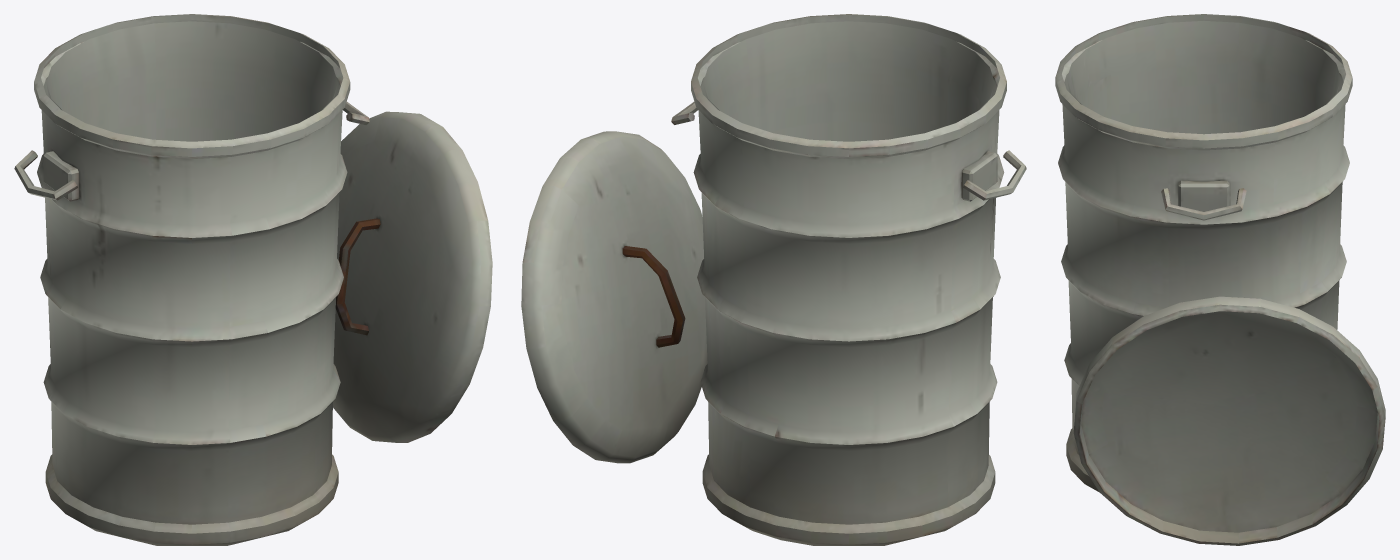
The model's file is trash_can_open-low.glb.
3 renders of one model, left to right at view 1: azimuth 30°, elevation 25°; view 2: azimuth 150°, elevation 25°; view 3: azimuth 270°, elevation 25°, orthographic. The views are drawn at different scales.
Visible parts, largest first — view 1: trash_can_open; view 2: trash_can_open; view 3: trash_can_open.
Boxes of the visible parts, x1,y1,x2,y2 form: trash_can_open: (14, 14, 492, 545); trash_can_open: (521, 14, 1026, 545); trash_can_open: (1055, 14, 1385, 545).
Bounding box in the file's own units: 0.7209 × 0.668 × 0.5155.
1 material, 1 textured.
